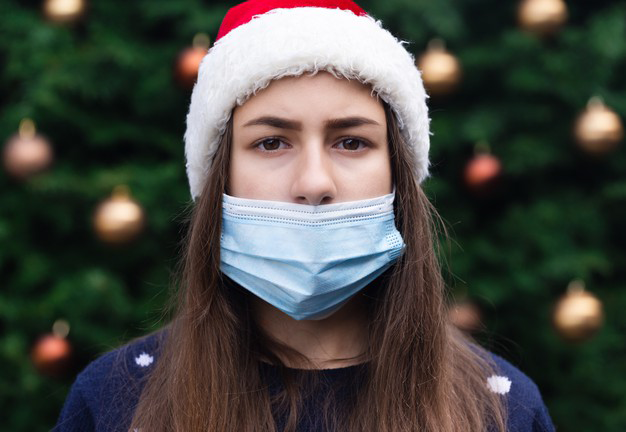mask_weared_incorrect: (224, 102, 399, 321)
